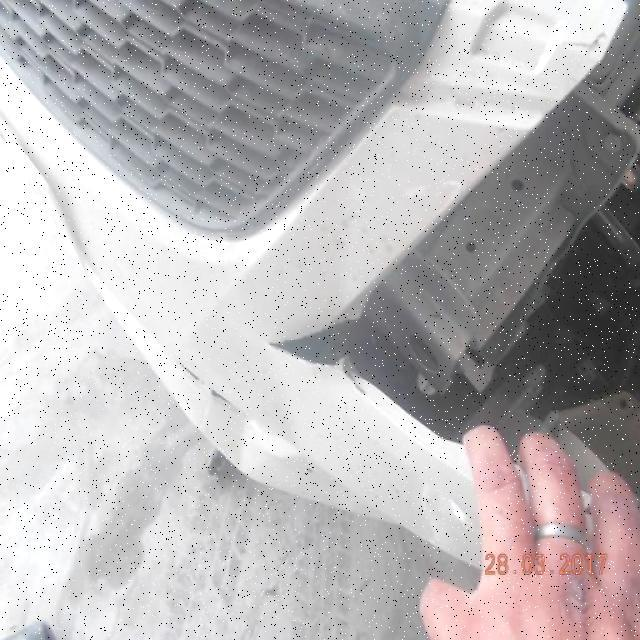car damage: (271, 6, 628, 496)
